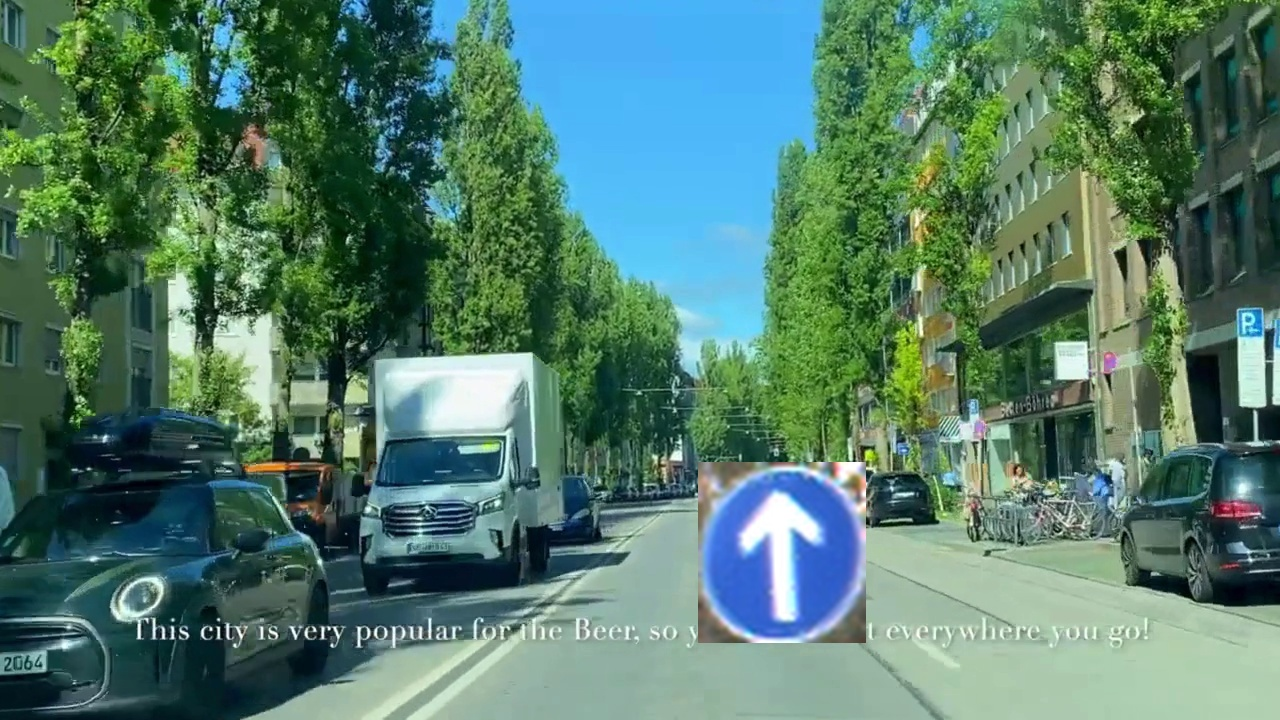Ahead only: (698, 462, 866, 643)
